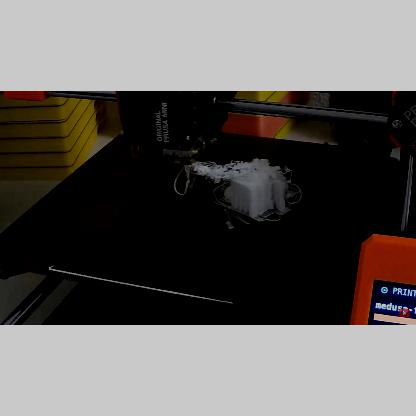fail: (178, 162, 240, 188)
